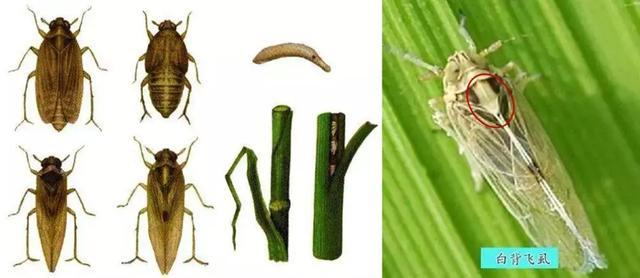Delphacidae: (397, 11, 608, 274), (115, 135, 214, 275), (8, 6, 108, 134), (7, 144, 96, 271), (131, 9, 201, 126)
